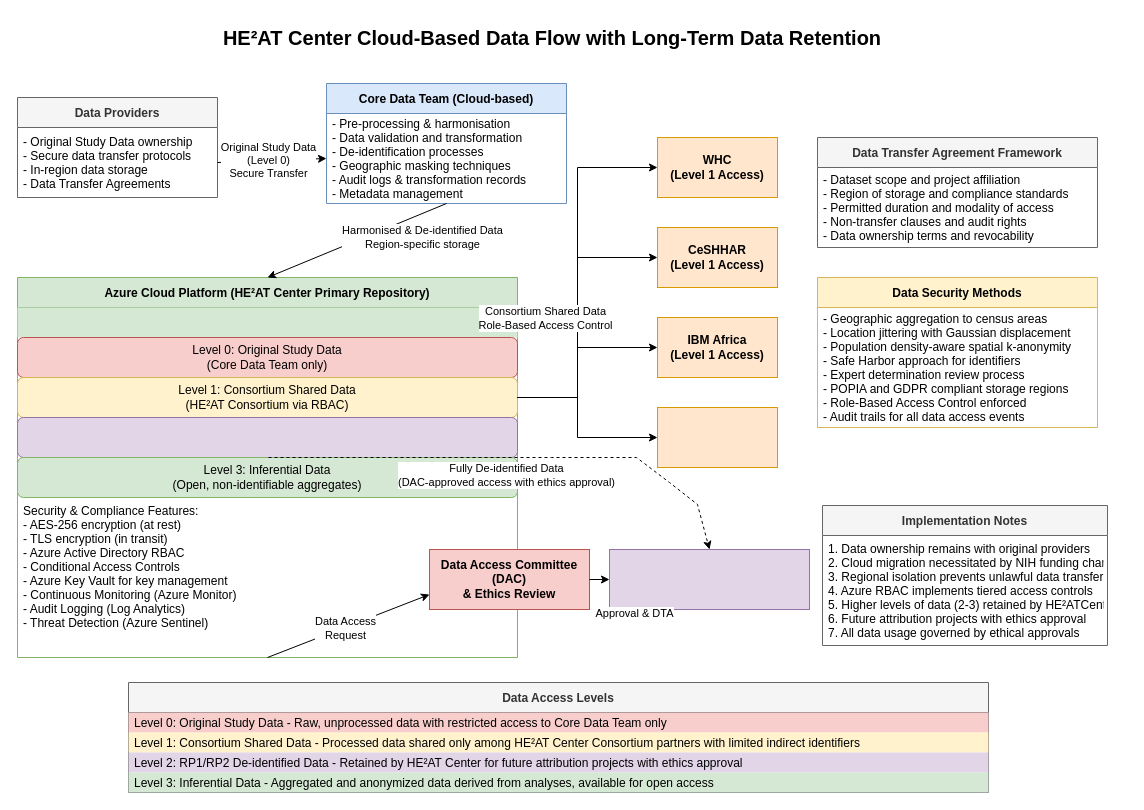
This 1144x810 diagram has some shape labels left out. Each missing label, with the centre of its shape:
"External Researchers (Level 2 Access - DAC & Ethics Approved)" goes at (709,579).
"Geo-Distributed Storage Architecture" goes at (267,322).
"Level 2: RP1/RP2 De-identified Data (DAC-approved external researchers)" goes at (267,437).
"UPGC (Level 1 Access)" goes at (717,437).
